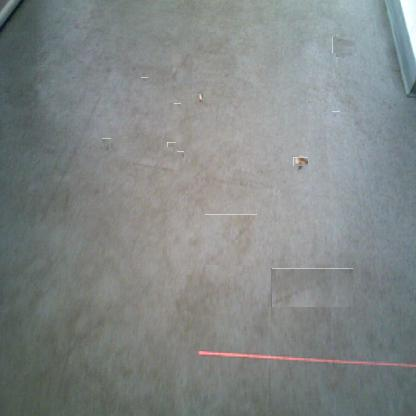dirty: (295, 156, 306, 167), (197, 92, 203, 102)
mark: (271, 268, 353, 307), (206, 214, 258, 265), (172, 54, 192, 86), (334, 36, 354, 55), (101, 139, 112, 151), (130, 64, 139, 72), (333, 111, 340, 119), (141, 77, 148, 85), (168, 141, 175, 148), (177, 151, 184, 158), (174, 102, 181, 109), (104, 66, 112, 72), (223, 71, 229, 77), (105, 55, 111, 61)
